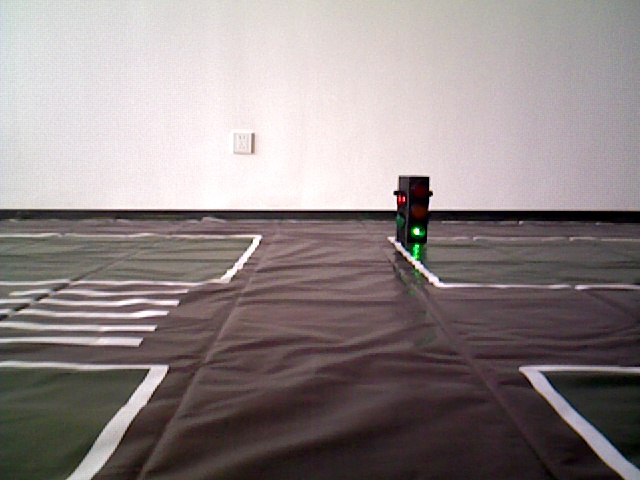green: (398, 175, 429, 240)
